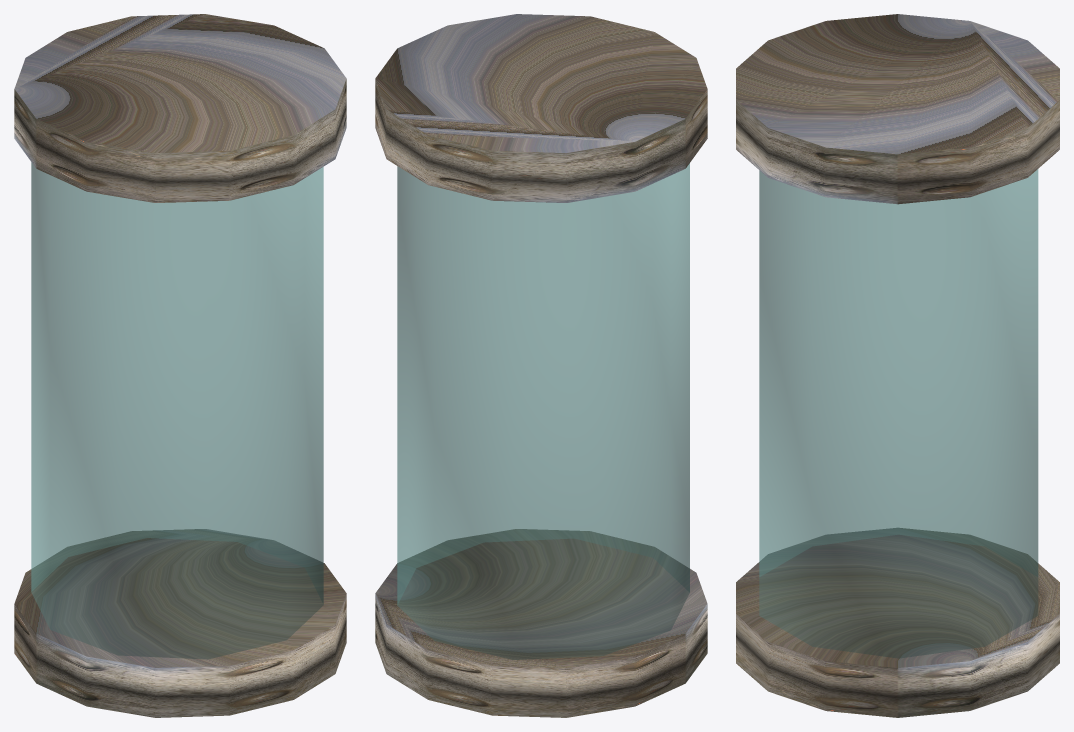
File: Test tube empty.fbx
3 renders of one model, left to right at view 1: azimuth 30°, elevation 25°; view 2: azimuth 150°, elevation 25°; view 3: azimuth 270°, elevation 25°, orthographic.
Visible parts, largest first — view 1: pCylinder1, pCylinder3, pCylinder2; view 2: pCylinder1, pCylinder3, pCylinder2; view 3: pCylinder1, pCylinder3, pCylinder2.
Boxes of the visible parts, x1,y1,x2,y2 form: pCylinder1: (31, 162, 323, 659); pCylinder3: (14, 14, 346, 202); pCylinder2: (14, 529, 346, 717); pCylinder1: (397, 163, 689, 659); pCylinder3: (375, 14, 707, 202); pCylinder2: (375, 529, 707, 717); pCylinder1: (759, 169, 1038, 658); pCylinder3: (736, 14, 1059, 204); pCylinder2: (736, 528, 1059, 717).
Bounding box in the file's own units: 7.24 × 13.54 × 7.05.
Materials: 3 (2 with a texture image).
